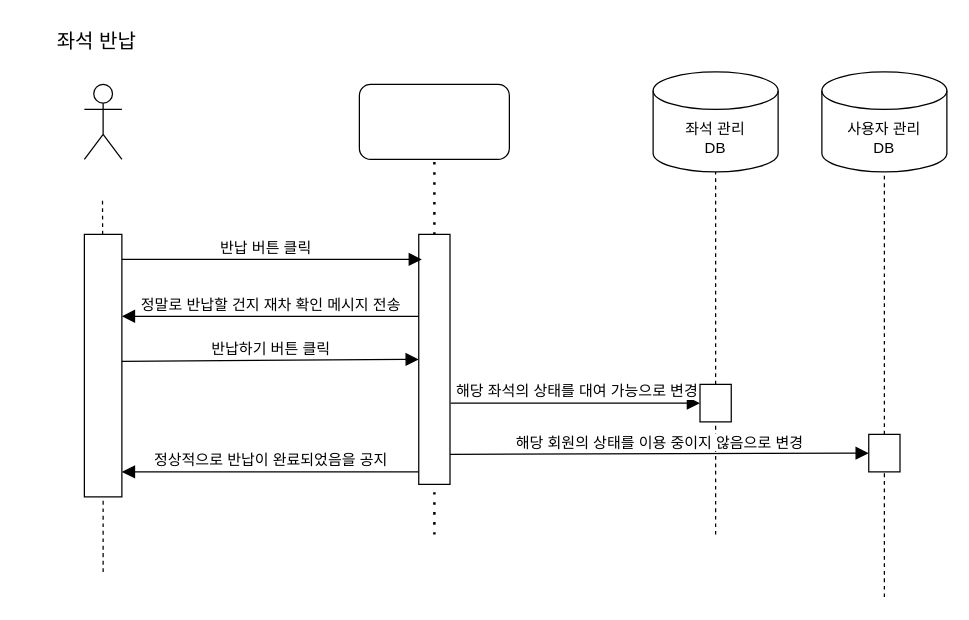
Some shapes in this 969 by 620 pixel diagram are drawn without their labels. Each missing label, with the box of its shape:
좌석 관리 서버: (358, 83, 509, 159)
회원: (83, 83, 122, 159)
